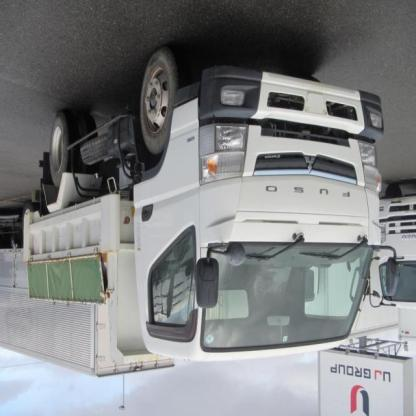truck: (24, 44, 400, 371)
